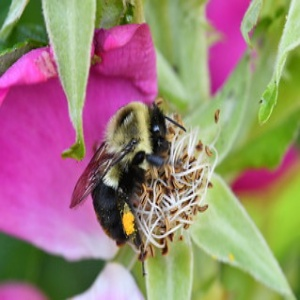bee: (70, 100, 167, 249)
